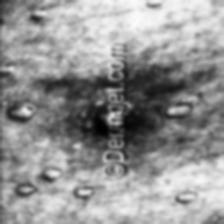Toxin: (14, 166, 98, 202), (84, 104, 138, 136), (162, 100, 194, 119)
